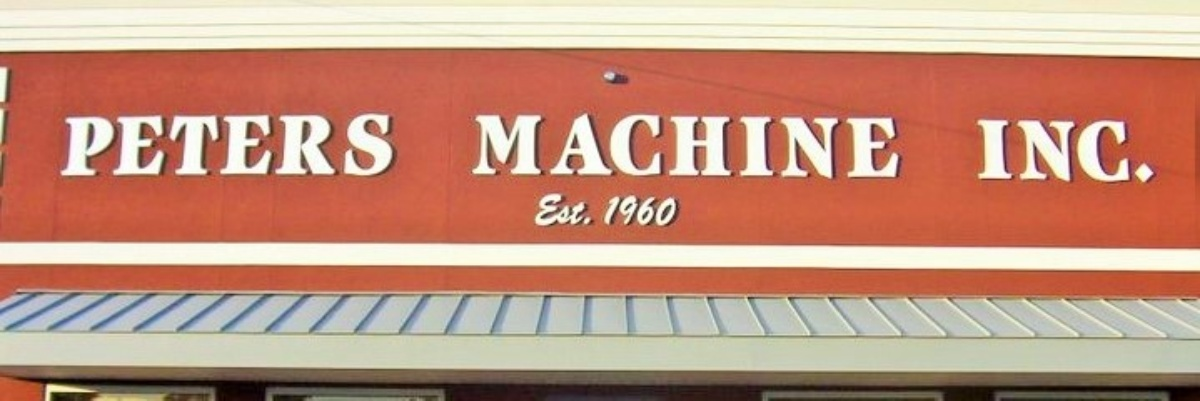text: (977, 117, 992, 186), (993, 117, 1008, 186), (1009, 117, 1024, 186), (1025, 117, 1040, 186), (1041, 117, 1056, 186), (1057, 117, 1072, 186), (1073, 117, 1088, 186), (1089, 117, 1104, 186), (1105, 117, 1120, 186), (1121, 117, 1136, 186), (1137, 117, 1152, 186), (465, 111, 480, 179), (481, 111, 496, 179), (497, 111, 512, 179), (513, 111, 528, 179), (529, 111, 544, 179), (545, 111, 560, 179), (561, 111, 576, 179), (577, 111, 592, 179), (593, 111, 608, 179), (609, 111, 624, 179), (625, 111, 640, 179), (641, 111, 656, 179), (657, 111, 672, 179), (673, 111, 688, 179), (689, 111, 704, 179), (705, 111, 720, 179), (721, 111, 736, 179), (737, 111, 752, 179), (753, 111, 768, 179), (769, 111, 784, 179), (785, 111, 800, 179), (801, 111, 816, 179), (817, 111, 832, 179), (833, 111, 848, 179), (849, 111, 864, 179), (865, 111, 880, 179), (881, 111, 896, 179), (65, 114, 80, 179), (81, 114, 96, 179), (97, 114, 112, 179), (113, 114, 128, 179), (129, 114, 144, 179), (145, 114, 160, 179), (161, 114, 176, 179), (177, 114, 192, 179), (193, 114, 208, 179), (209, 114, 224, 179), (225, 114, 240, 179), (241, 114, 256, 179), (257, 114, 272, 179), (273, 114, 288, 179), (289, 114, 304, 179), (305, 114, 320, 179), (321, 114, 336, 179), (337, 114, 352, 179), (353, 114, 368, 179), (369, 114, 384, 179), (385, 114, 396, 179), (609, 191, 624, 229), (625, 191, 640, 229), (641, 191, 656, 229), (657, 191, 672, 229), (545, 193, 560, 228), (561, 193, 576, 228), (577, 193, 592, 228), (536, 193, 544, 228), (972, 117, 976, 186), (673, 191, 680, 229), (897, 111, 900, 179), (61, 114, 64, 179), (1153, 117, 1155, 186), (593, 193, 596, 228), (606, 191, 608, 229)
